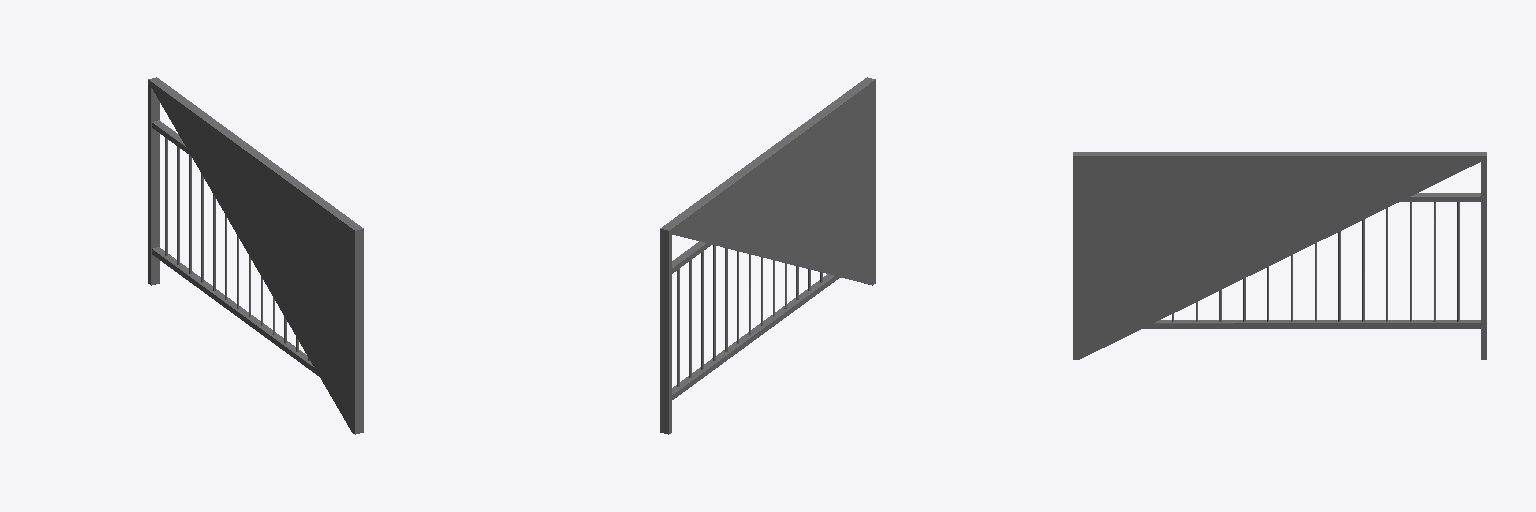
Rendered from metal_railing.obj.
3 views of the same model, side by side, from view 1: azimuth 30°, elevation 25°; view 2: azimuth 150°, elevation 25°; view 3: azimuth 270°, elevation 25° (orthographic).
Visible parts, largest first — view 1: Railings_M2_Cube.028; view 2: Railings_M2_Cube.028; view 3: Railings_M2_Cube.028.
Part boxes in pixels (x1,y1,x2,y2): Railings_M2_Cube.028: (148, 77, 363, 434); Railings_M2_Cube.028: (660, 77, 875, 434); Railings_M2_Cube.028: (1073, 152, 1486, 359).
Bounding box in the file's own units: 0.05 × 1.09 × 2.